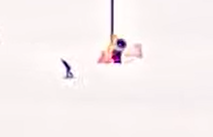snowboarder: (56, 56, 80, 80)
